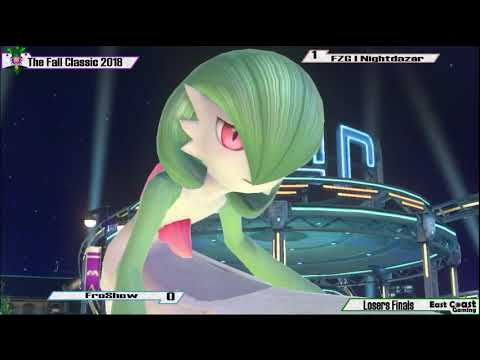gardevoir: (99, 49, 350, 313)
